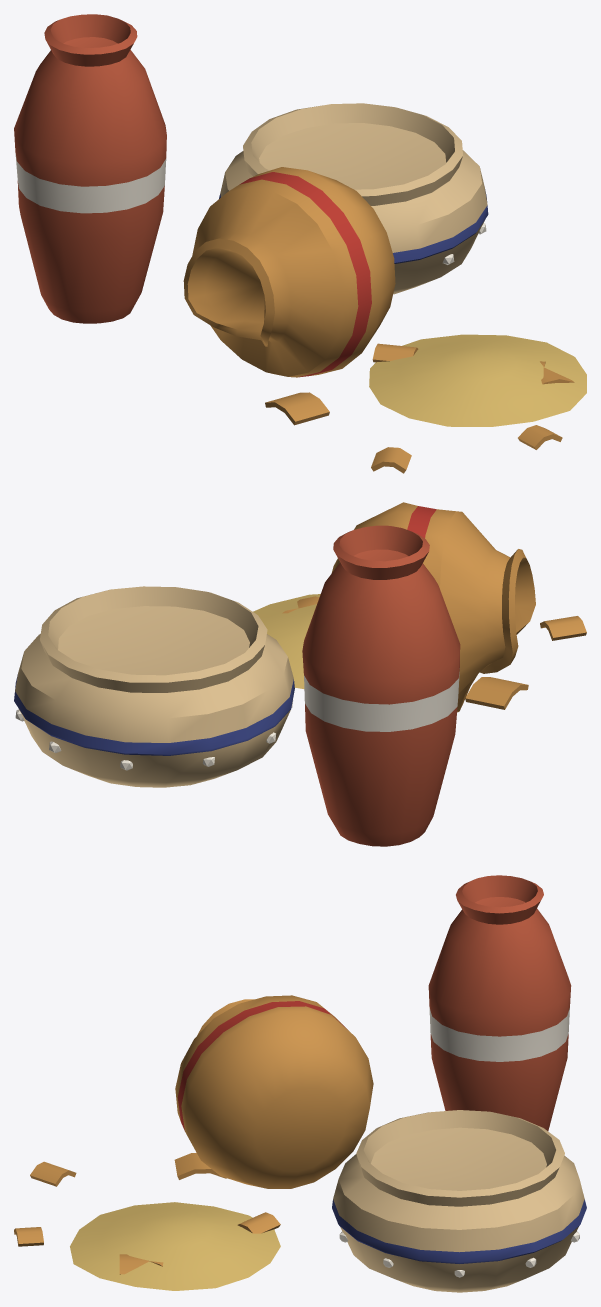
Rendered from deco_pot_cluster_broken.fbx.
3 renders of one model, top to bottom at view 1: azimuth 30°, elevation 25°; view 2: azimuth 150°, elevation 25°; view 3: azimuth 270°, elevation 25°, orthographic. The views are drawn at different scales.
Visible parts, largest first — view 1: PotCluster_Broken_PotTall, PotCluster_Broken_PotTipped, PotCluster_Broken_PotWide, PotCluster_Broken_Spill; view 2: PotCluster_Broken_PotWide, PotCluster_Broken_PotTall, PotCluster_Broken_PotTipped, PotCluster_Broken_Spill; view 3: PotCluster_Broken_PotWide, PotCluster_Broken_PotTipped, PotCluster_Broken_PotTall, PotCluster_Broken_Spill.
Boxes of the visible parts, x1,y1,x2,y2 form: PotCluster_Broken_PotTall: (14, 14, 166, 323); PotCluster_Broken_PotTipped: (183, 167, 395, 377); PotCluster_Broken_PotWide: (219, 103, 488, 294); PotCluster_Broken_Spill: (265, 334, 586, 473); PotCluster_Broken_PotWide: (14, 586, 294, 787); PotCluster_Broken_PotTall: (302, 525, 460, 846); PotCluster_Broken_PotTipped: (332, 502, 535, 712); PotCluster_Broken_Spill: (253, 594, 586, 709); PotCluster_Broken_PotWide: (332, 1110, 586, 1292); PotCluster_Broken_PotTipped: (175, 995, 373, 1188); PotCluster_Broken_PotTall: (428, 875, 571, 1130); PotCluster_Broken_Spill: (14, 1153, 280, 1290).
Bounding box in the file's own units: 150 × 92.54 × 186.
